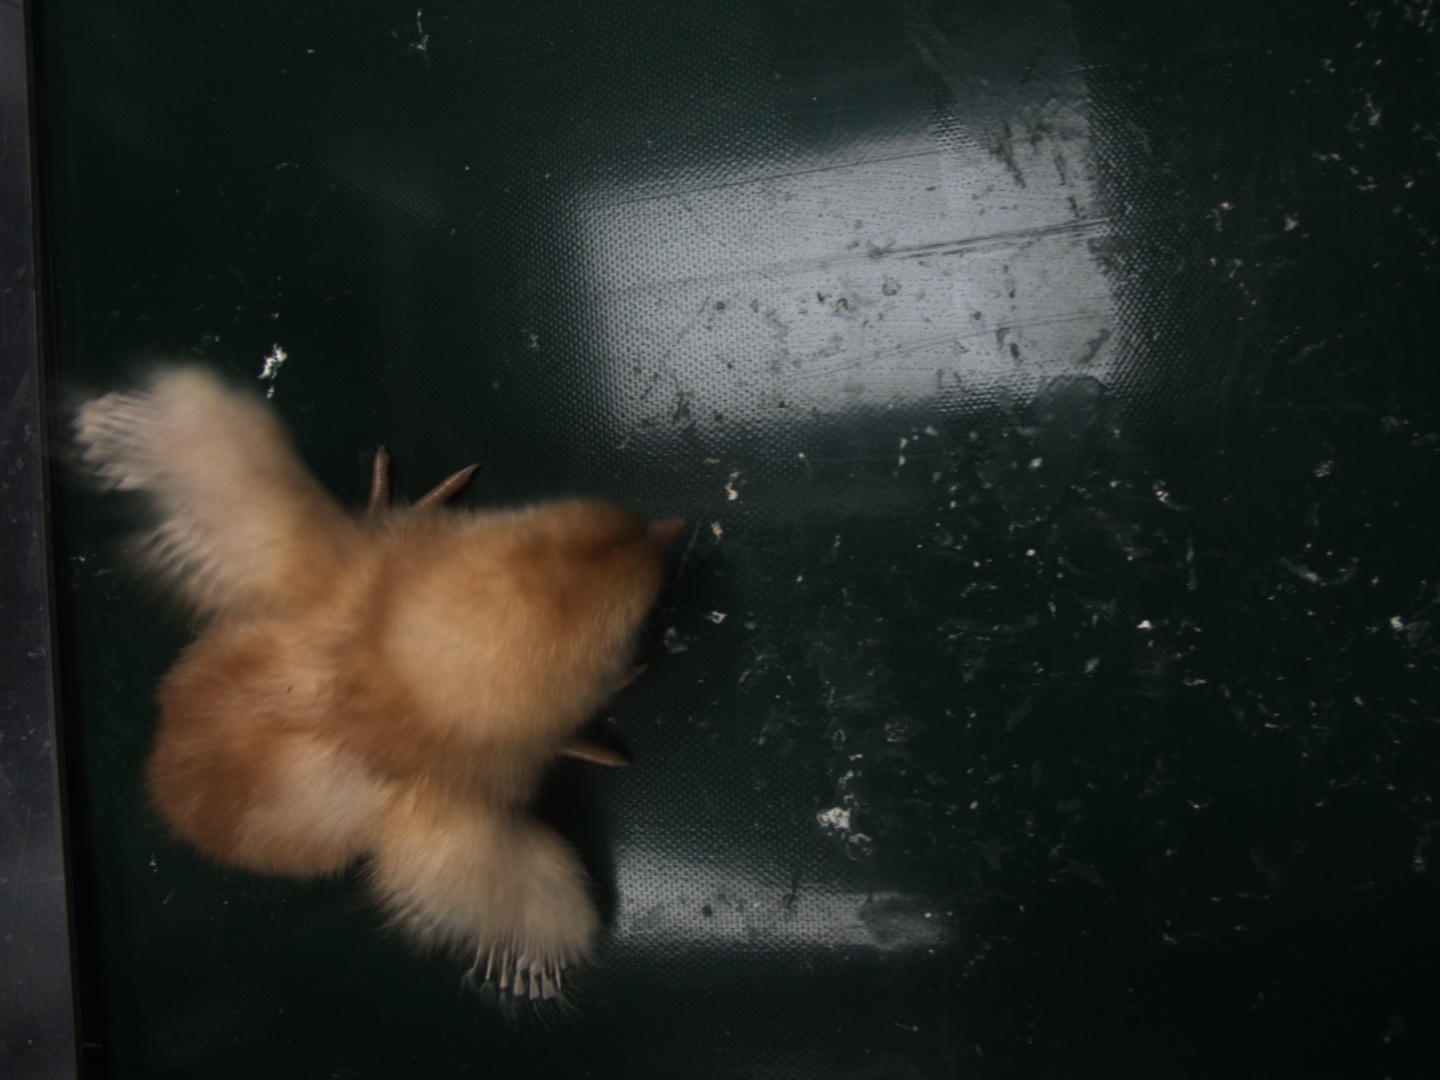female: (467, 933, 565, 1001)
